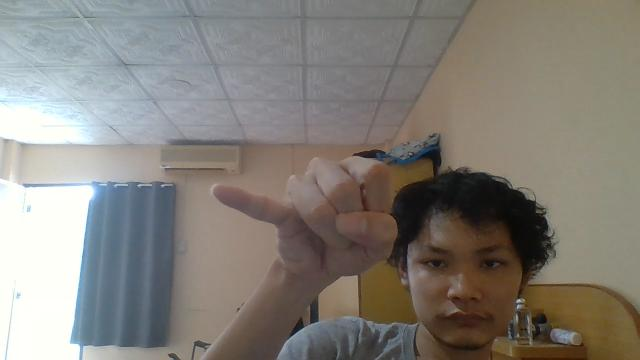Right: (206, 152, 398, 280)
